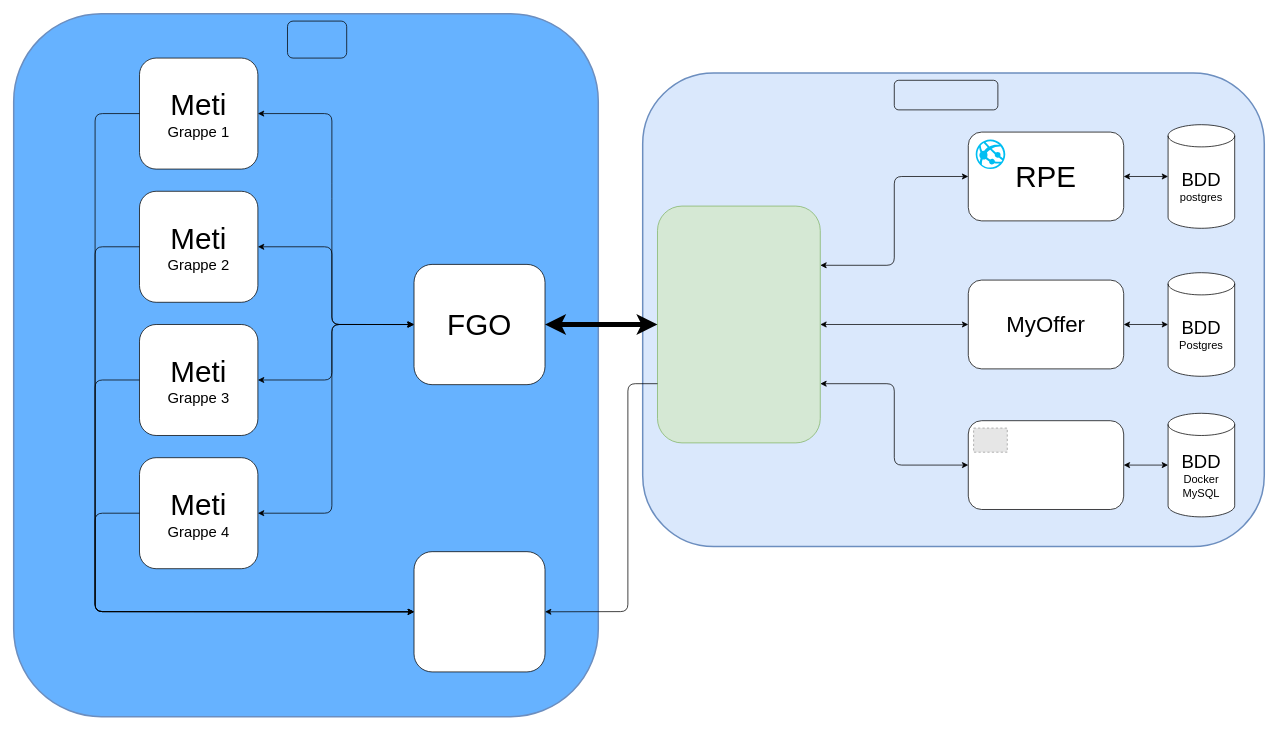
The diagram is 1277 pixels wide and 730 high, and some of its shapes have lost their labels. Grey dashed boxes stand in for pictures. Here are the shapes that lost their labels. From the top down, the box of each, then its label:
(287, 20, 347, 58): OVH
(894, 80, 998, 110): AZURE
(657, 205, 820, 443): YODA --------- Gravitee --------- Cerberos
(968, 420, 1124, 509): MyStore
(413, 551, 545, 672): RPLB
